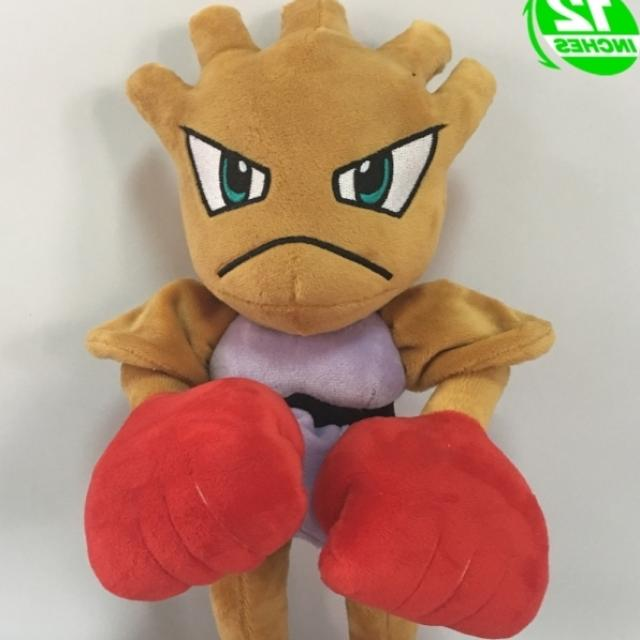Hitmonchan: (118, 12, 499, 640)
